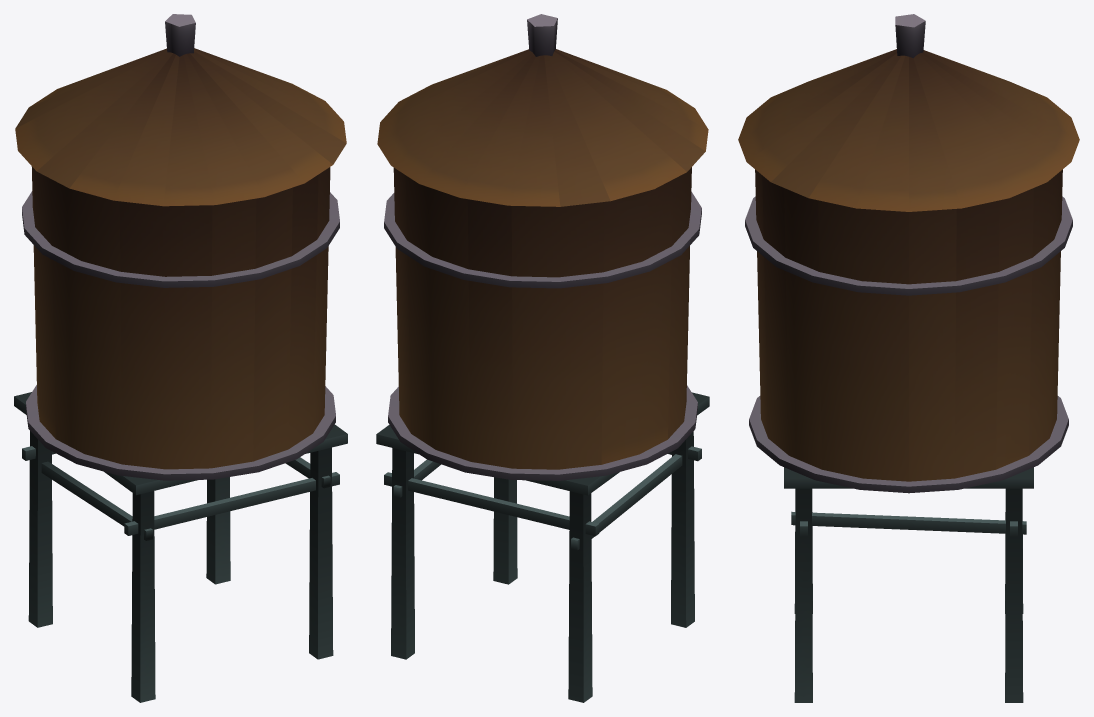
File: Water_Tank_1A.fbx
3 renders of one model, left to right at view 1: azimuth 30°, elevation 25°; view 2: azimuth 150°, elevation 25°; view 3: azimuth 270°, elevation 25°, orthographic. The views are drawn at different scales.
Parts seen in each view (by area): view 1: Water_Tank_1A; view 2: Water_Tank_1A; view 3: Water_Tank_1A.
Part boxes in pixels (box(x1,y1,x2,y2)): Water_Tank_1A: box(14, 14, 347, 702); Water_Tank_1A: box(376, 14, 709, 702); Water_Tank_1A: box(738, 14, 1079, 702).
Size of the model in its own units: 3.25 by 6.65 by 3.25.
